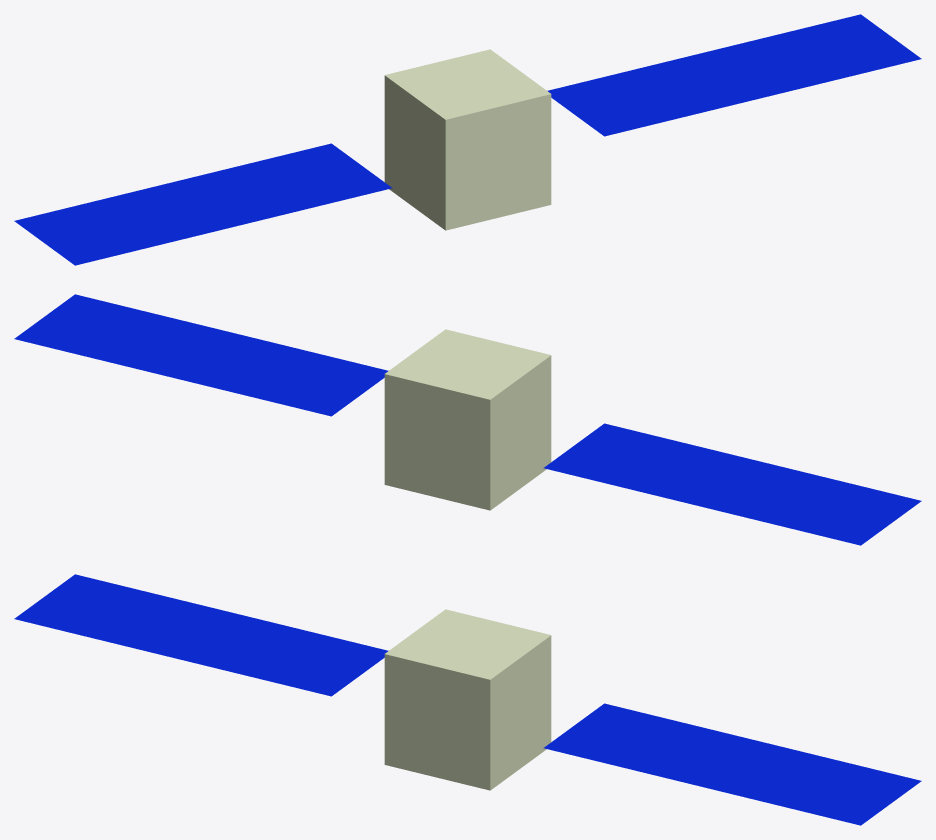
Rendered from satelite.glb.
3 renders of one model, top to bottom at view 1: azimuth 30°, elevation 25°; view 2: azimuth 150°, elevation 25°; view 3: azimuth 330°, elevation 25°, orthographic.
Parts seen in each view (by area): view 1: Cube, Plane.001, Plane; view 2: Cube, Plane.001, Plane; view 3: Cube, Plane, Plane.001.
Boxes of the visible parts, x1,y1,x2,y2 form: Cube: [384, 49, 551, 230]; Plane.001: [14, 143, 392, 265]; Plane: [547, 14, 921, 136]; Cube: [384, 329, 551, 510]; Plane.001: [543, 423, 921, 545]; Plane: [14, 294, 388, 416]; Cube: [384, 609, 551, 790]; Plane: [543, 703, 921, 825]; Plane.001: [14, 574, 388, 696].
Bounding box in the file's own units: 16 × 2 × 2.
